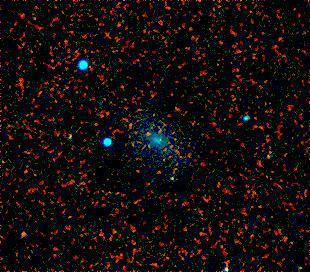star: (157, 164, 187, 194)
